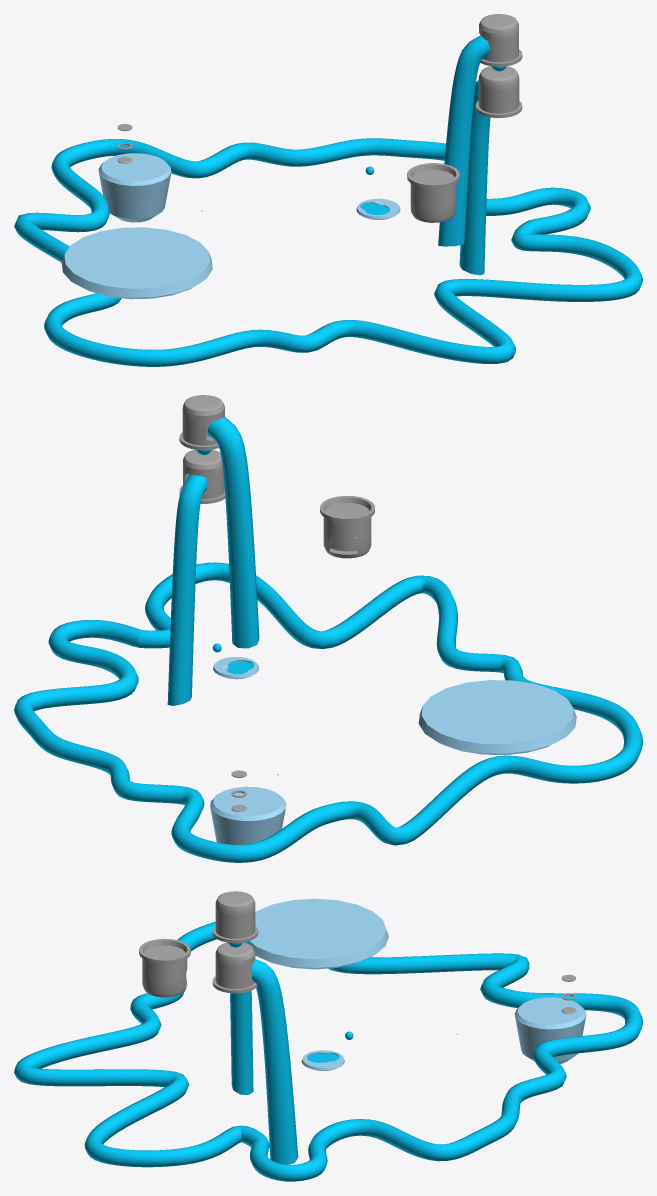
File: Wonderblue Whitebox.fbx
3 views of the same model, one above another, from view 1: azimuth 30°, elevation 25°; view 2: azimuth 150°, elevation 25°; view 3: azimuth 270°, elevation 25° (orthographic). The views are drawn at different scales.
Visible parts, largest first — view 1: sweep4, Platform_4, Waterfall, Platform1, Waterfall1, pCylinder3, pCylinder10, aterfallHolder, polySurface2; view 2: sweep4, Platform_4, Waterfall, Waterfall1, Platform1, pCylinder3, aterfallHolder, pCylinder10; view 3: sweep4, Platform_4, Waterfall1, Platform1, pCylinder3, Waterfall, aterfallHolder, pCylinder10, polySurface2.
Boxes of the visible parts, bbox=[...] form: sweep4: bbox=[14, 138, 642, 366]; Platform_4: bbox=[61, 227, 212, 299]; Waterfall: bbox=[438, 35, 490, 246]; Platform1: bbox=[98, 153, 171, 222]; Waterfall1: bbox=[459, 80, 490, 275]; pCylinder3: bbox=[407, 163, 459, 222]; pCylinder10: bbox=[475, 66, 522, 118]; aterfallHolder: bbox=[479, 14, 522, 66]; polySurface2: bbox=[356, 198, 400, 219]; sweep4: bbox=[14, 562, 642, 862]; Platform_4: bbox=[418, 680, 576, 755]; Waterfall: bbox=[207, 417, 259, 648]; Waterfall1: bbox=[167, 474, 206, 705]; Platform1: bbox=[210, 786, 286, 844]; pCylinder3: bbox=[320, 496, 374, 558]; aterfallHolder: bbox=[179, 395, 224, 450]; pCylinder10: bbox=[179, 449, 225, 503]; sweep4: bbox=[14, 922, 642, 1181]; Platform_4: bbox=[250, 898, 388, 969]; Waterfall1: bbox=[252, 959, 298, 1164]; Platform1: bbox=[514, 997, 586, 1063]; pCylinder3: bbox=[139, 938, 190, 997]; Waterfall: bbox=[230, 941, 253, 1094]; aterfallHolder: bbox=[212, 891, 258, 943]; pCylinder10: bbox=[212, 942, 257, 993]; polySurface2: bbox=[301, 1050, 344, 1071].
Size of the model in its own units: 55015 by 26186 by 56381.
